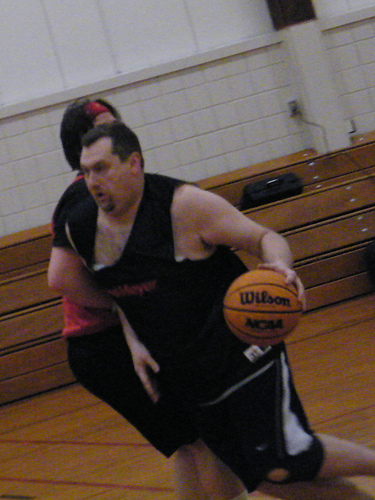basketball: (223, 270, 302, 345)
